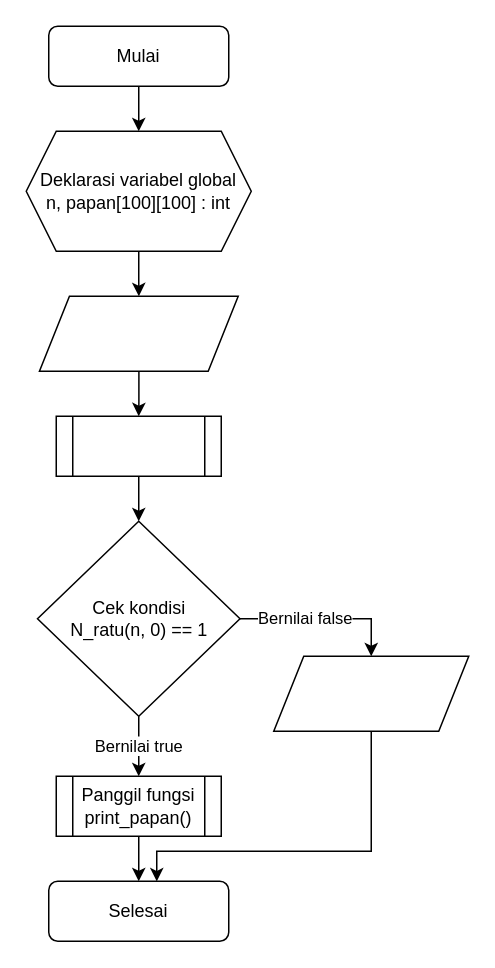
This 495x968 diagram has some shape labels left out. The shapes that lost their labels are listed below. From the top down, each one's centre as x and y in pixels, then its label:
point (138, 333): Masukkan (n)
point (138, 445): Panggil fungsi N_ratu(n, 0)
point (370, 693): Cetak "Solusi tidak ditemukan"
